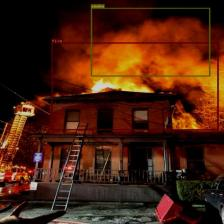fire: (51, 42, 218, 130)
smoke: (90, 8, 210, 76)
